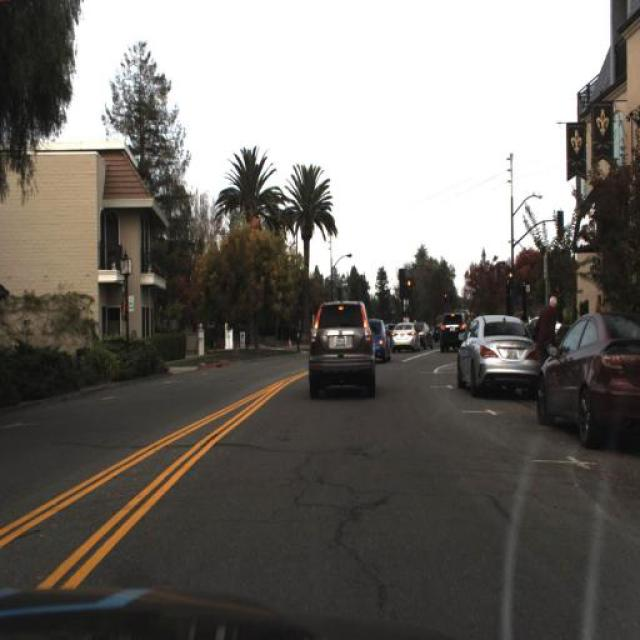car: (532, 309, 638, 447), (450, 309, 536, 395), (306, 301, 378, 394), (440, 306, 470, 356), (362, 318, 392, 364), (392, 319, 421, 355)
trafficLight: (531, 293, 558, 358)
